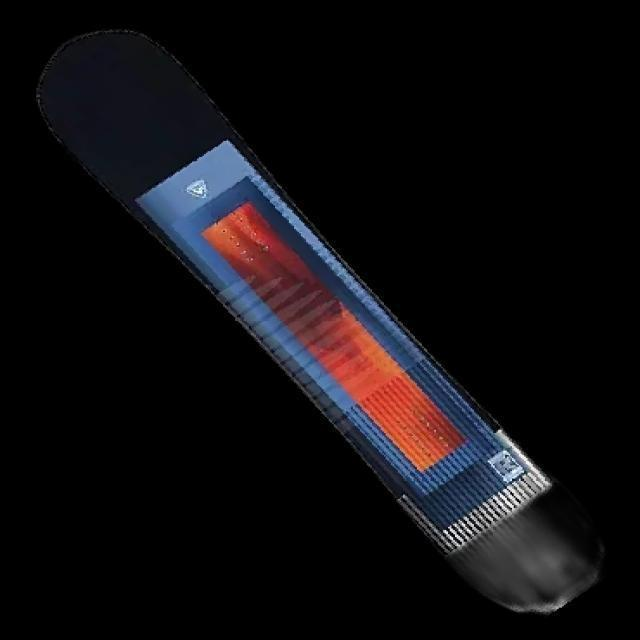Snowboard: (35, 27, 605, 615)
